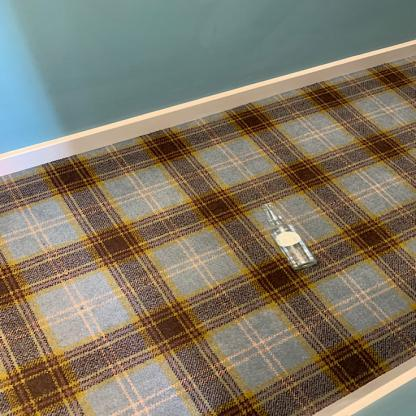trash: (258, 202, 318, 271)
